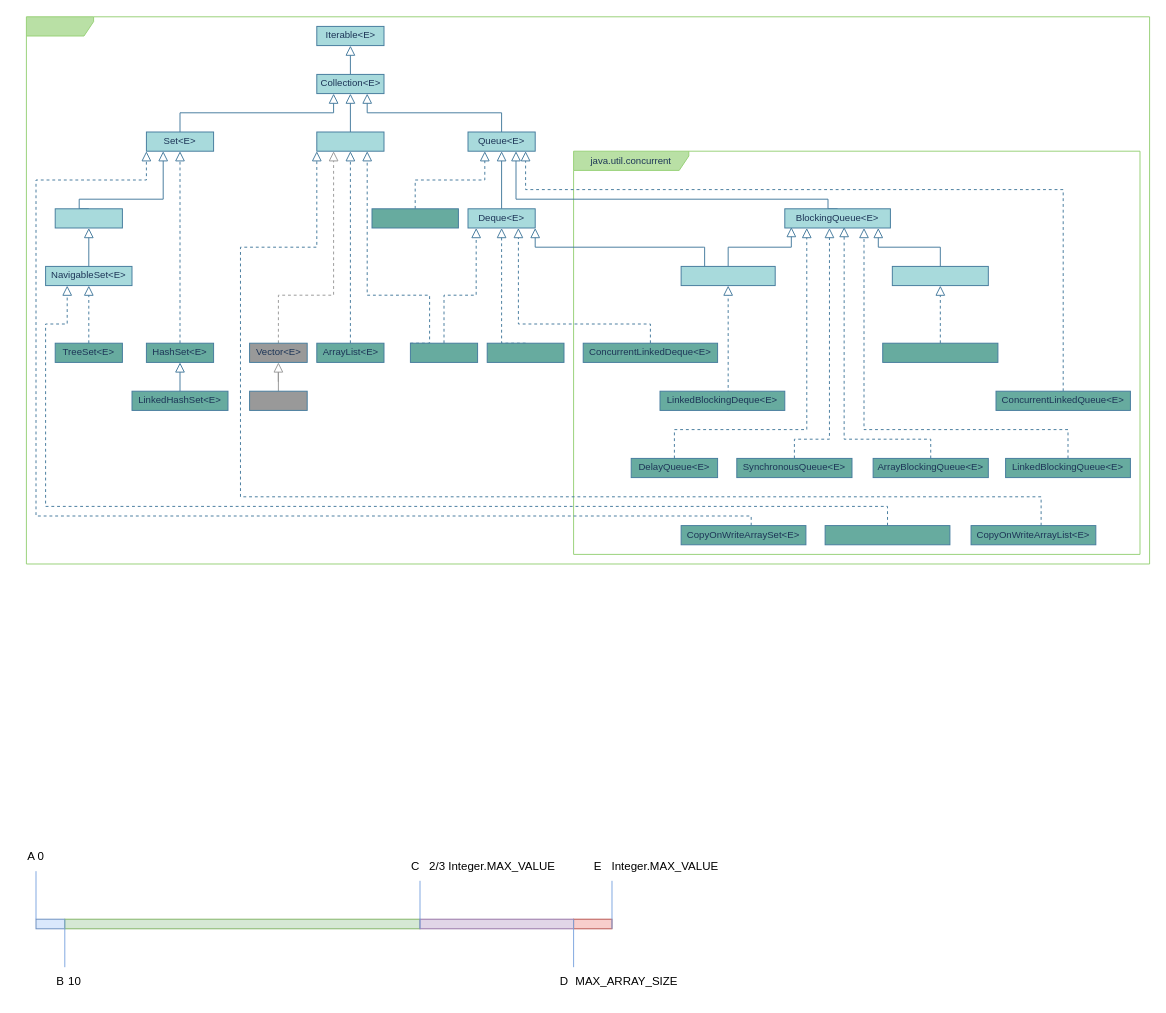
This 1166x1013 diagram has some shape labels left out. The shapes that lost their labels are listed below. From the top down, each one's box as (x1, y1, x2, y2) in pixels, then its label:
(316, 131, 384, 151): List<E>
(54, 208, 122, 228): SortedSet<E>
(371, 208, 458, 228): PriorityQueue<E>
(25, 16, 1150, 564): java.util
(680, 265, 775, 286): BlockingDeque<E>
(891, 265, 988, 286): TransferQueue<E>
(409, 342, 478, 362): LinkedList<E>
(486, 342, 564, 362): ArrayDeque<E>
(882, 342, 998, 362): LinkedTransferQueue<E>
(249, 390, 307, 410): Stack<E>
(824, 525, 950, 545): ConcurrentSkipListSet<E>
